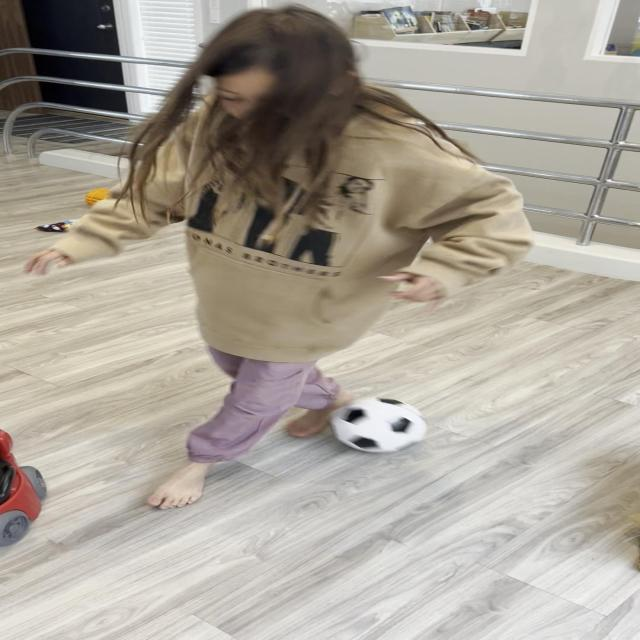Soccer Ball: (329, 397, 428, 452)
